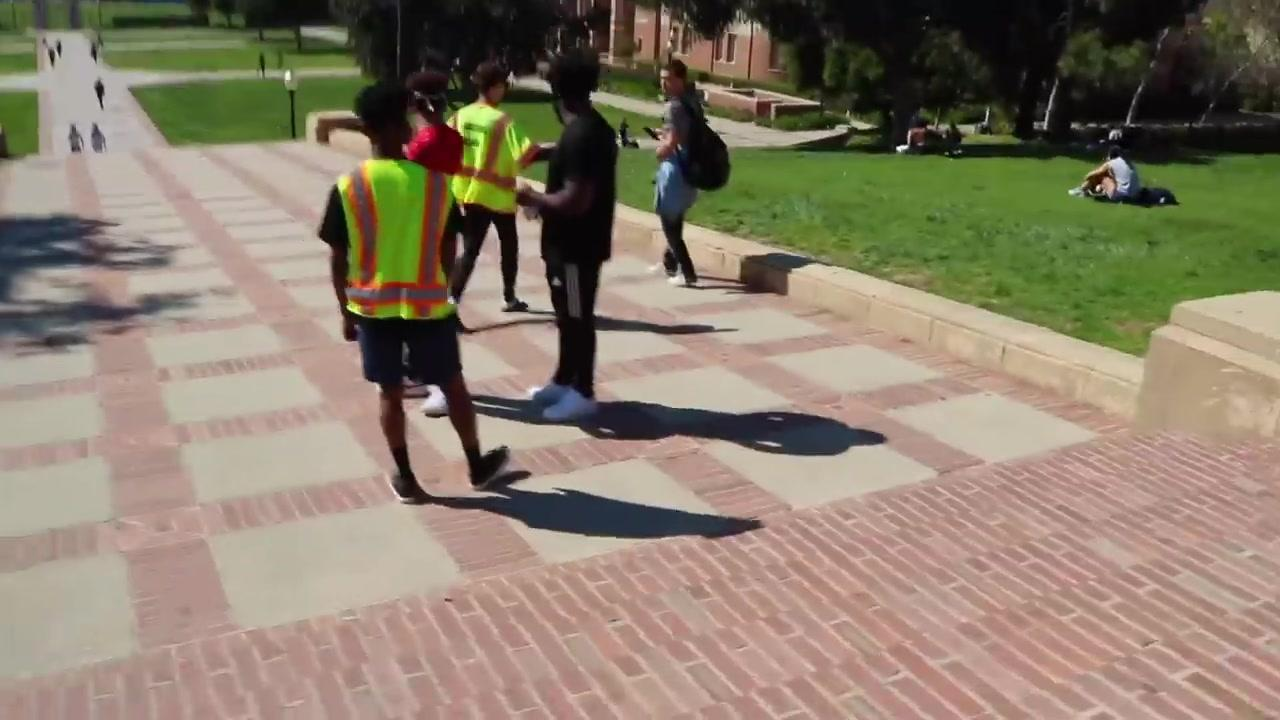vest: (330, 161, 455, 317), (440, 103, 537, 216)
